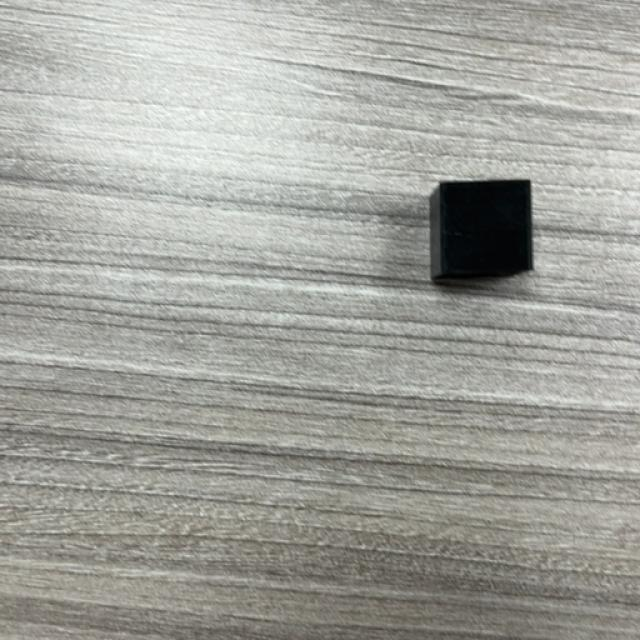Negro: (429, 179, 535, 286)
